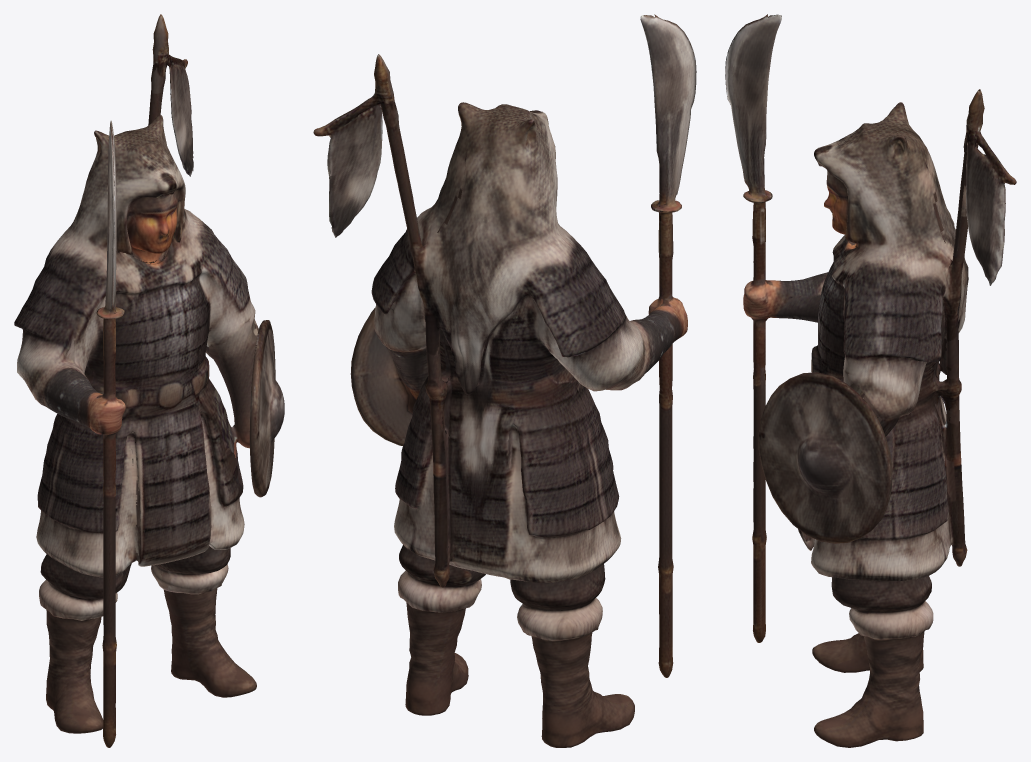
The model's file is look-armor-t3-rodin.glb.
3 views of the same model, side by side, from view 1: azimuth 30°, elevation 25°; view 2: azimuth 150°, elevation 25°; view 3: azimuth 270°, elevation 25° (orthographic). The views are drawn at different scales.
Visible parts, largest first — view 1: model; view 2: model; view 3: model.
Boxes of the visible parts, box(x1,y1,x2,y2) form: model: box(14, 14, 284, 747); model: box(313, 14, 696, 747); model: box(725, 14, 1016, 747).
Size of the model in its own units: 0.8183 by 1.9 by 0.7733.
Materials: 1 (1 with a texture image).
